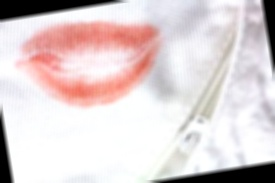lipstick: (17, 12, 171, 117)
